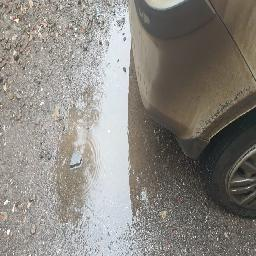water accumulation: (51, 8, 163, 255)
